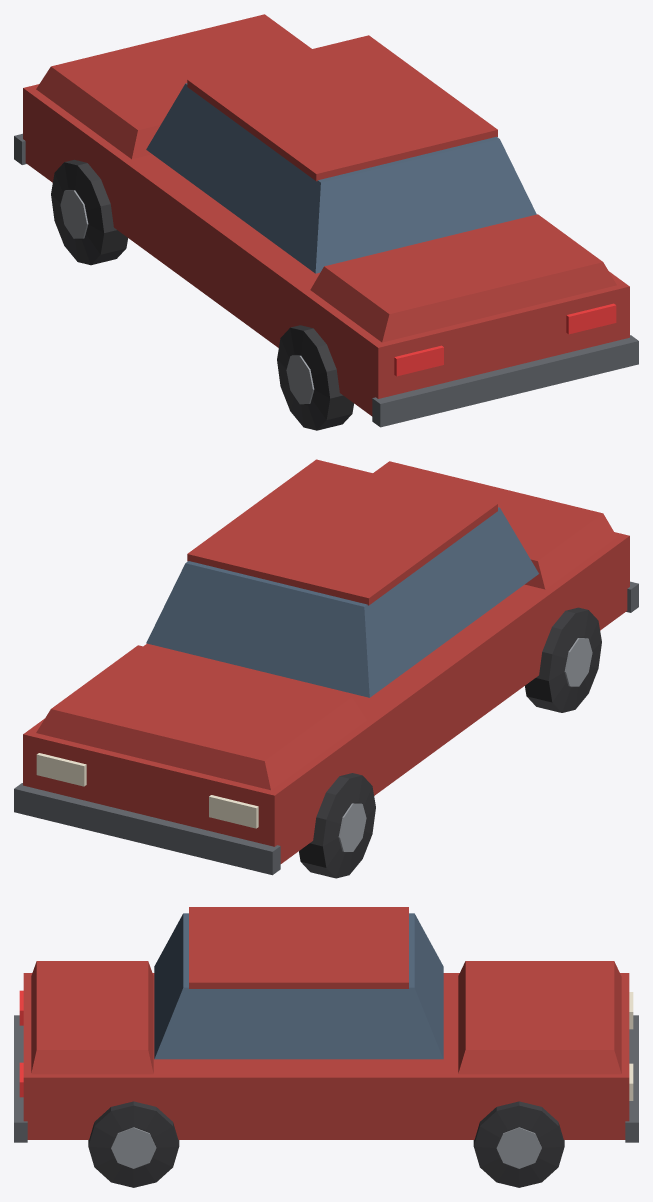
Rendered from Car_cab_red.obj.
3 views of the same model, one above another, from view 1: azimuth 30°, elevation 25°; view 2: azimuth 150°, elevation 25°; view 3: azimuth 270°, elevation 25° (orthographic). The views are drawn at different scales.
Visible parts, largest first — view 1: Car_cab_red; view 2: Car_cab_red; view 3: Car_cab_red.
Part boxes in pixels (x1=…): Car_cab_red: x1=14, y1=14, x2=638, y2=430; Car_cab_red: x1=14, y1=459, x2=638, y2=878; Car_cab_red: x1=14, y1=907, x2=638, y2=1187.
Bounding box in the file's own units: 2 × 1.5 × 4.54.
1 material, 1 textured.
